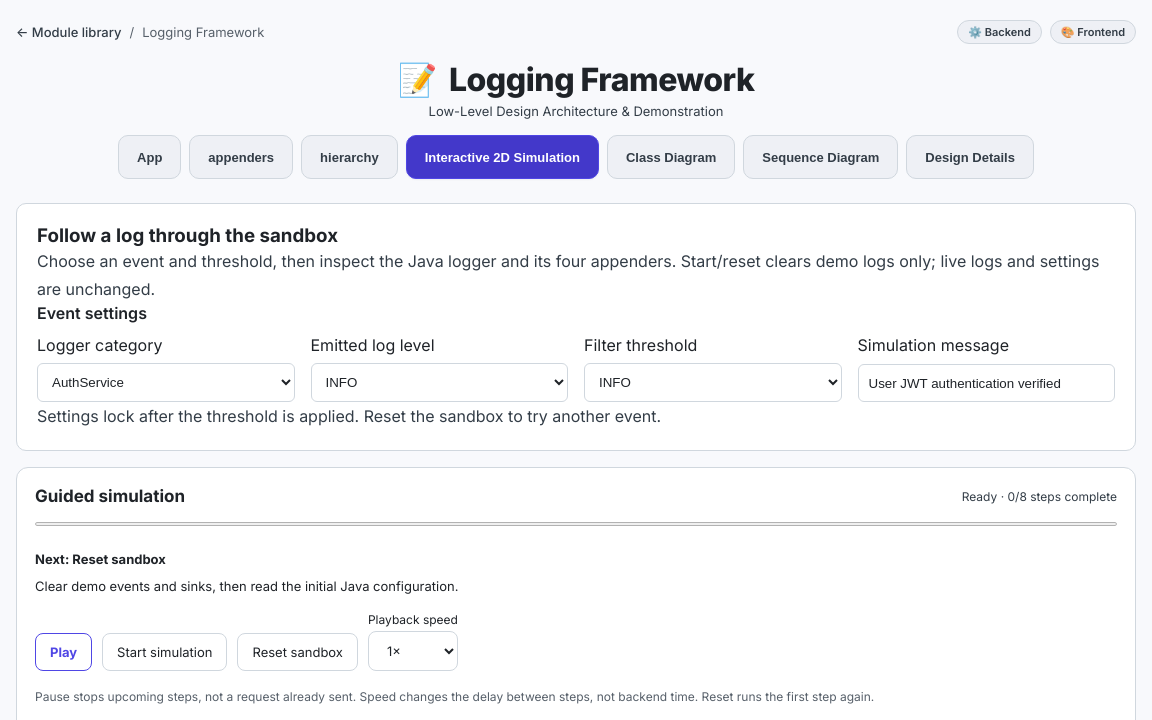
Test: Logging sandbox walkthrough › bounds large repository and sink snapshots without changing their returned counts
Click the button "Start simulation" at coordinates (165, 652), box [102,633,228,671]
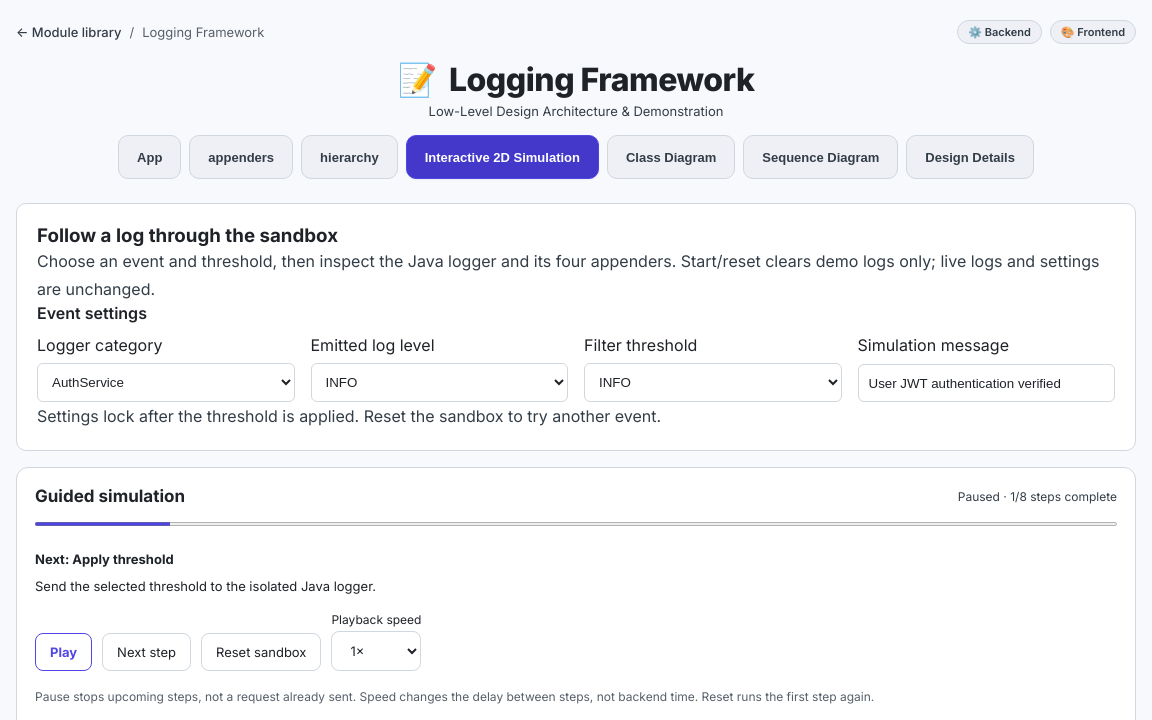
Check: the progress indicator has attribute value="1", box [35,520,1117,528]
Click the button "Next step" at coordinates (147, 652), box [102,633,191,671]
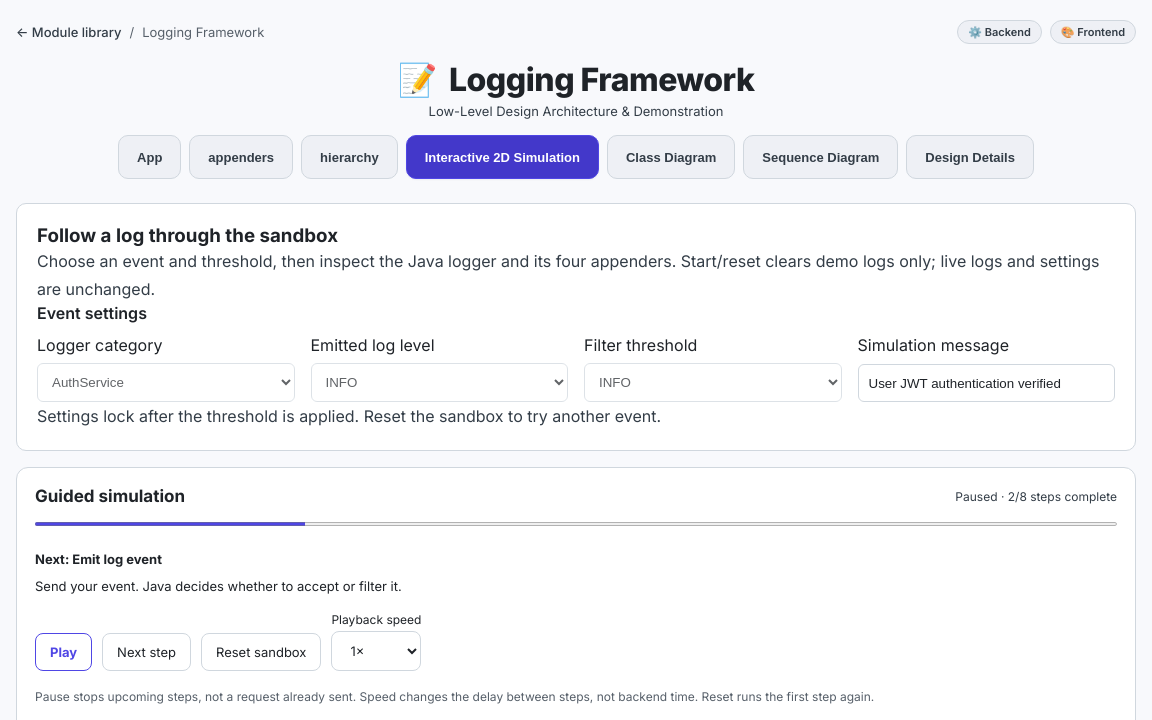
Check: the progress indicator has attribute value="2", box [35,520,1117,528]
Click the button "Next step" at coordinates (147, 652), box [102,633,191,671]
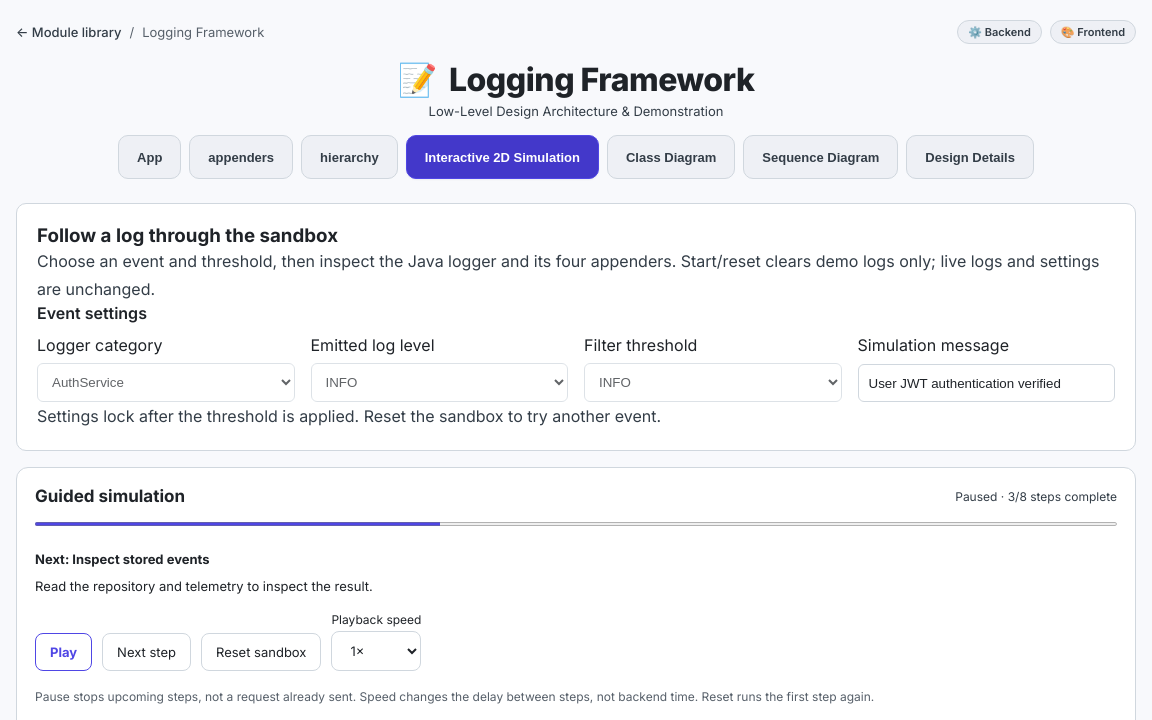
Check: the progress indicator has attribute value="3", box [35,520,1117,528]
Click the button "Next step" at coordinates (147, 652), box [102,633,191,671]
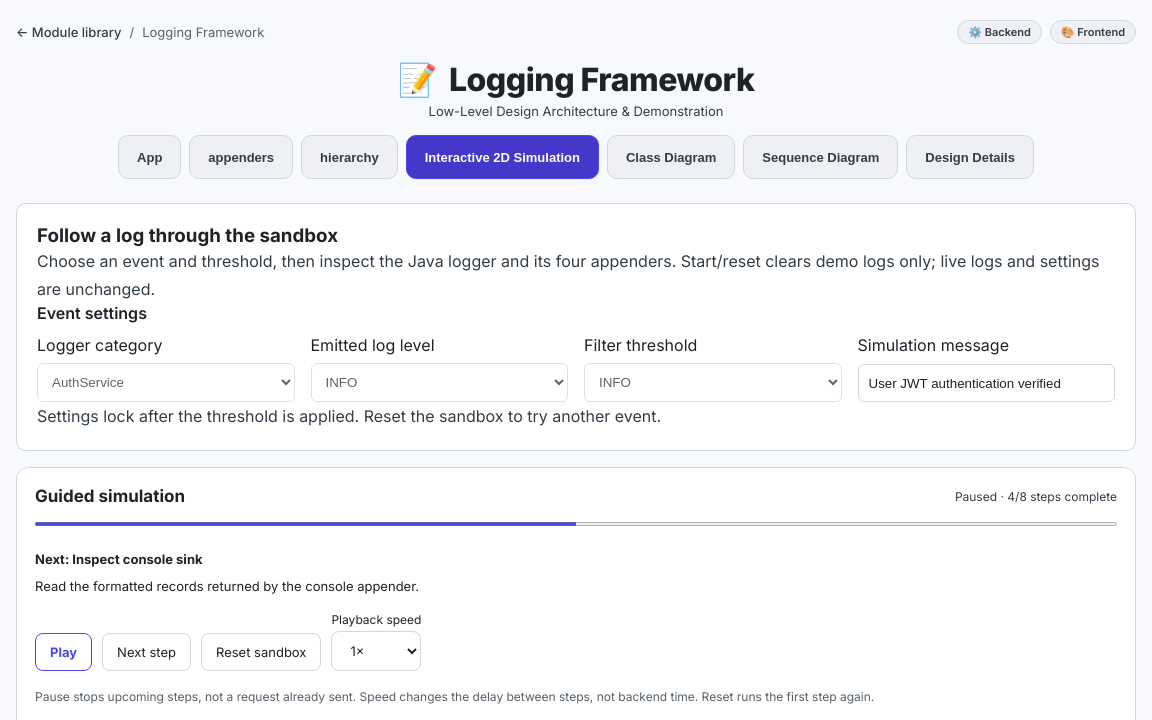
Check: the progress indicator has attribute value="4", box [35,520,1117,528]
Click the button "Next step" at coordinates (147, 652), box [102,633,191,671]
(page scrolled)
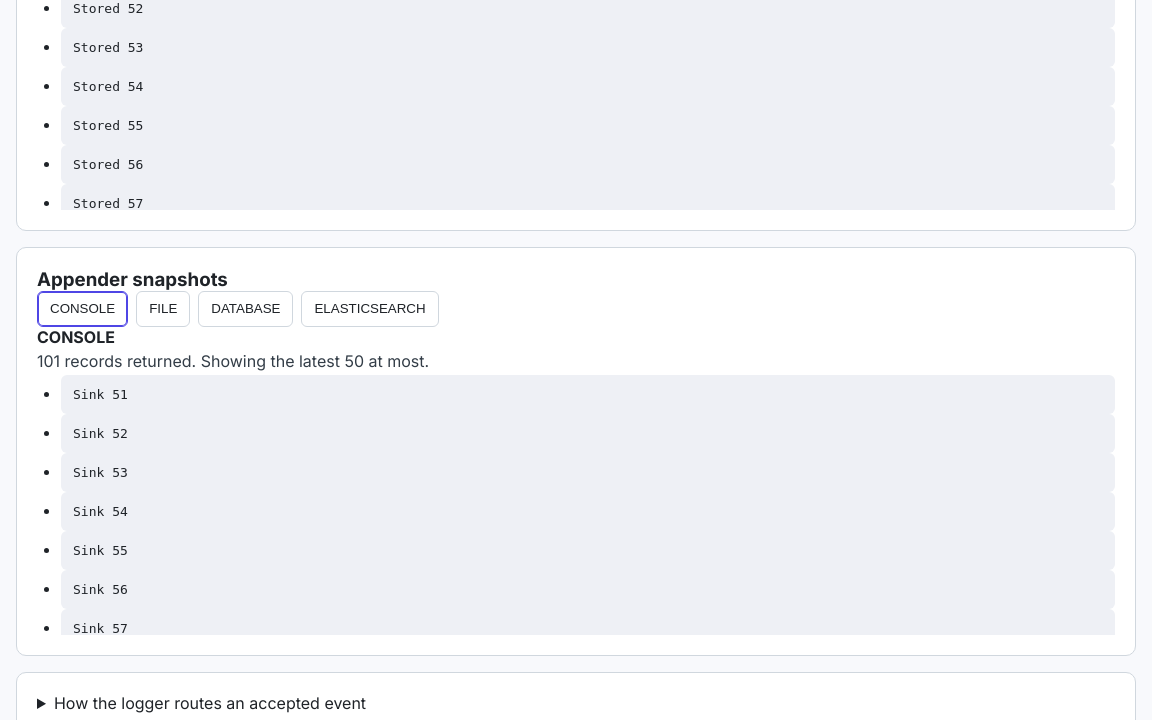
Check: the text "101 records returned. Showing the latest 50 at most." is shown, box [37,351,429,371]
